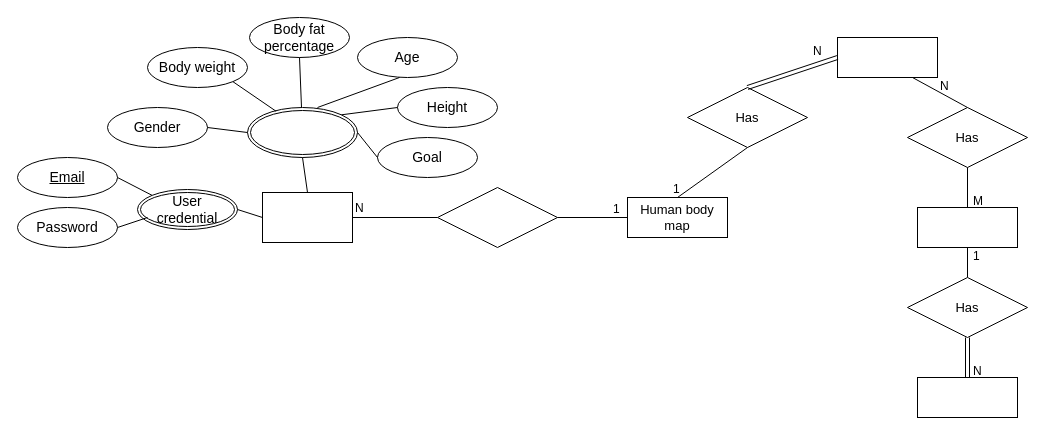
This 1045x435 diagram has some shape labels left out. Each missing label, with the box of its shape:
Browse: (436, 186, 558, 248)
Excercise: (916, 206, 1018, 248)
Muscle group: (836, 36, 938, 78)
Personal body data: (246, 106, 358, 158)
Registered user: (262, 192, 352, 242)
Tips and tricks section: (916, 376, 1018, 418)
